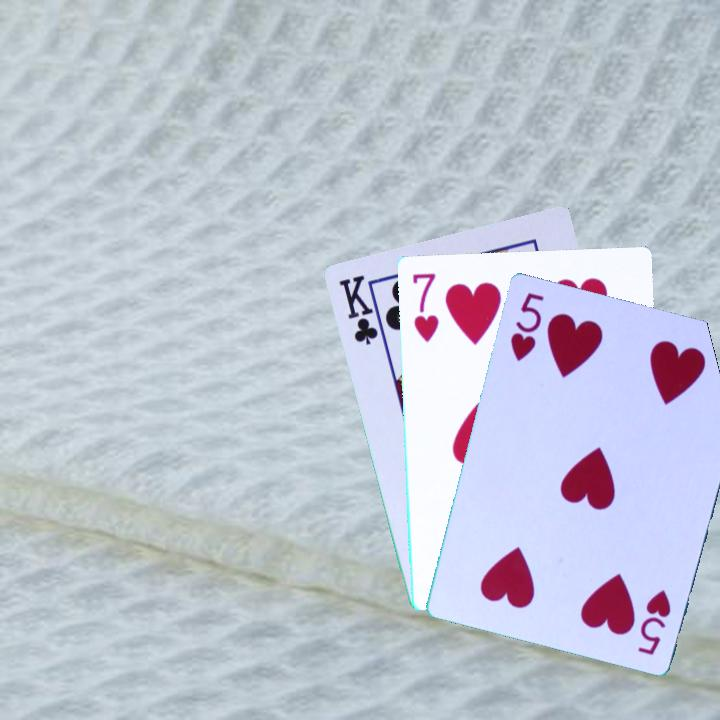5h: (506, 288, 547, 364), (634, 585, 674, 658)
7h: (409, 269, 442, 344)
Kc: (334, 271, 381, 348)
